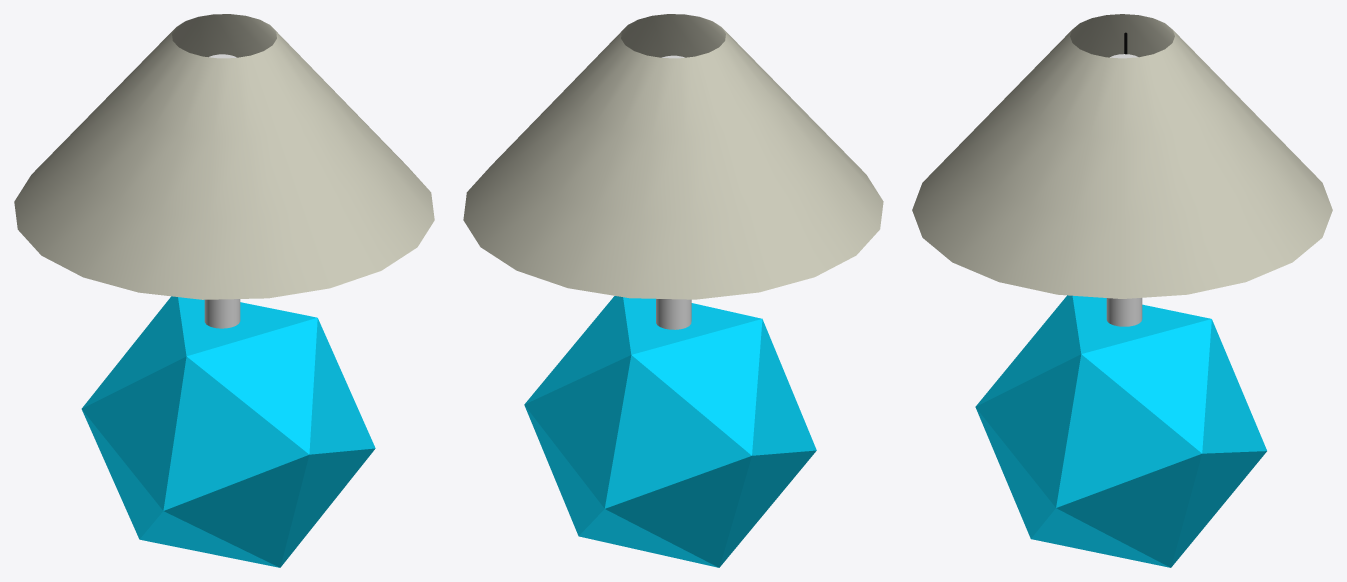
File: Lamp.fbx
3 renders of one model, left to right at view 1: azimuth 30°, elevation 25°; view 2: azimuth 150°, elevation 25°; view 3: azimuth 270°, elevation 25°, orthographic.
Parts seen in each view (by area): view 1: pCone1, pPlatonic1, pCylinder1; view 2: pCone1, pPlatonic1, pCylinder1; view 3: pCone1, pPlatonic1, pCylinder1.
Boxes of the visible parts, box(x1,y1,x2,y2) form: pCone1: box(14, 14, 434, 299); pPlatonic1: box(81, 296, 375, 567); pCylinder1: box(204, 54, 240, 328); pCone1: box(463, 14, 883, 299); pPlatonic1: box(524, 296, 816, 567); pCylinder1: box(656, 55, 691, 329); pCone1: box(912, 14, 1332, 298); pPlatonic1: box(975, 295, 1266, 567); pCylinder1: box(1106, 54, 1142, 326).
Bounding box in the file's own units: 0.231 × 0.3025 × 0.231.
